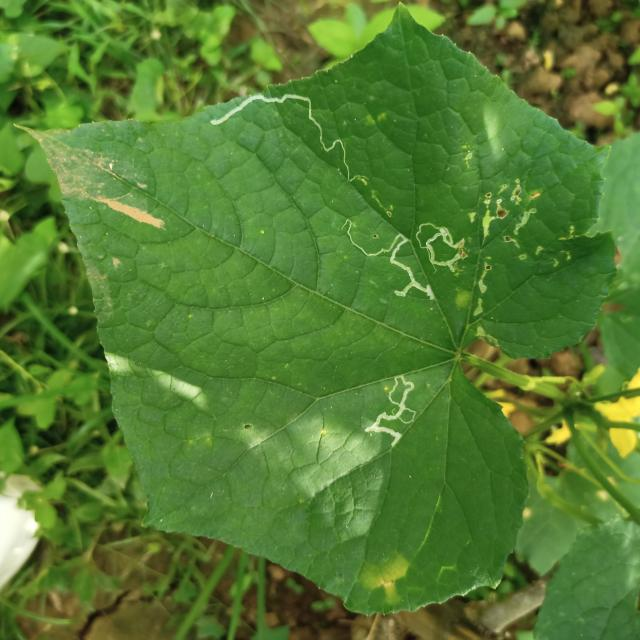disease_cucumber: (365, 552, 406, 606)
